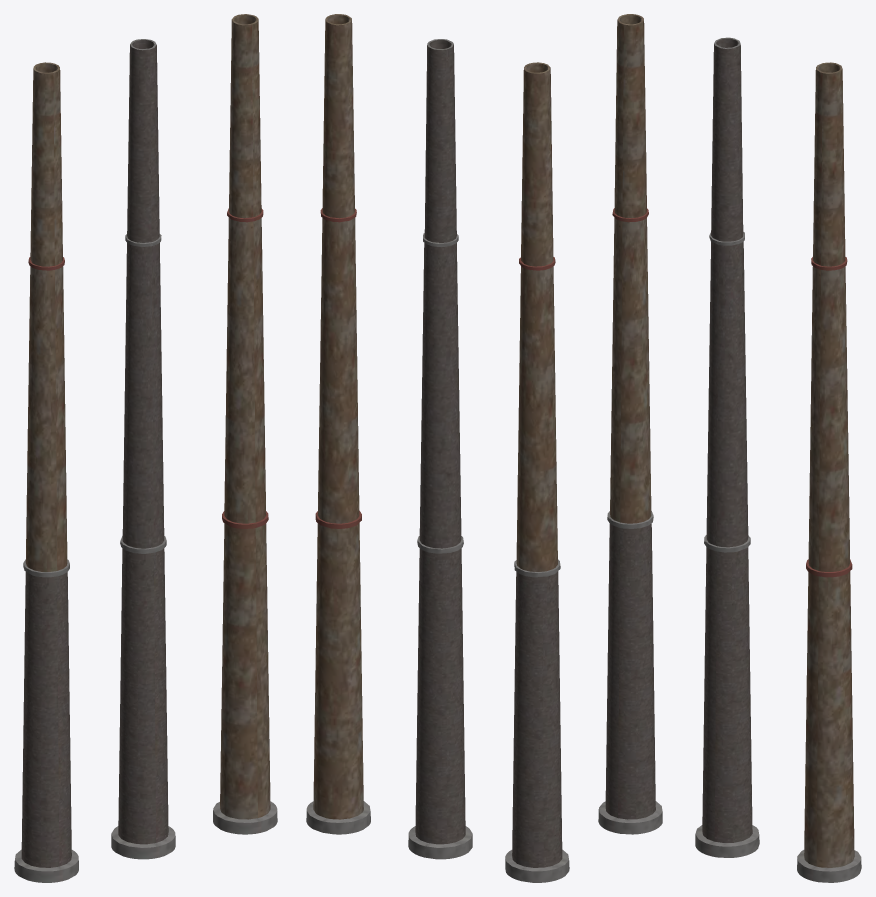
The model's file is smoke-stacks.lod1.glb.
3 renders of one model, left to right at view 1: azimuth 30°, elevation 25°; view 2: azimuth 150°, elevation 25°; view 3: azimuth 330°, elevation 25°, orthographic.
Visible parts, largest first — view 1: Object_4; view 2: Object_4; view 3: Object_4.
Boxes of the visible parts, x1,y1,x2,y2 form: Object_4: (14, 14, 277, 882); Object_4: (306, 14, 569, 882); Object_4: (598, 14, 861, 882).
Bounding box in the file's own units: 13.3 × 40 × 2.92.
Materials: 1 (1 with a texture image).
